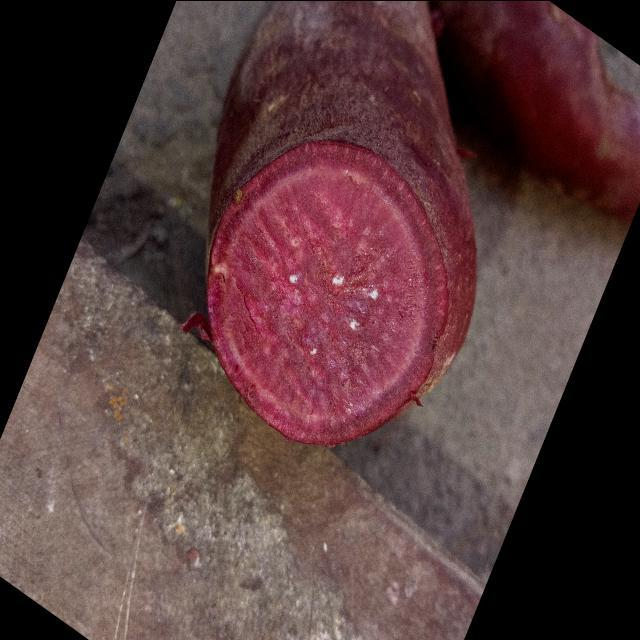Healthy Sweet Potato: (208, 140, 448, 443)
